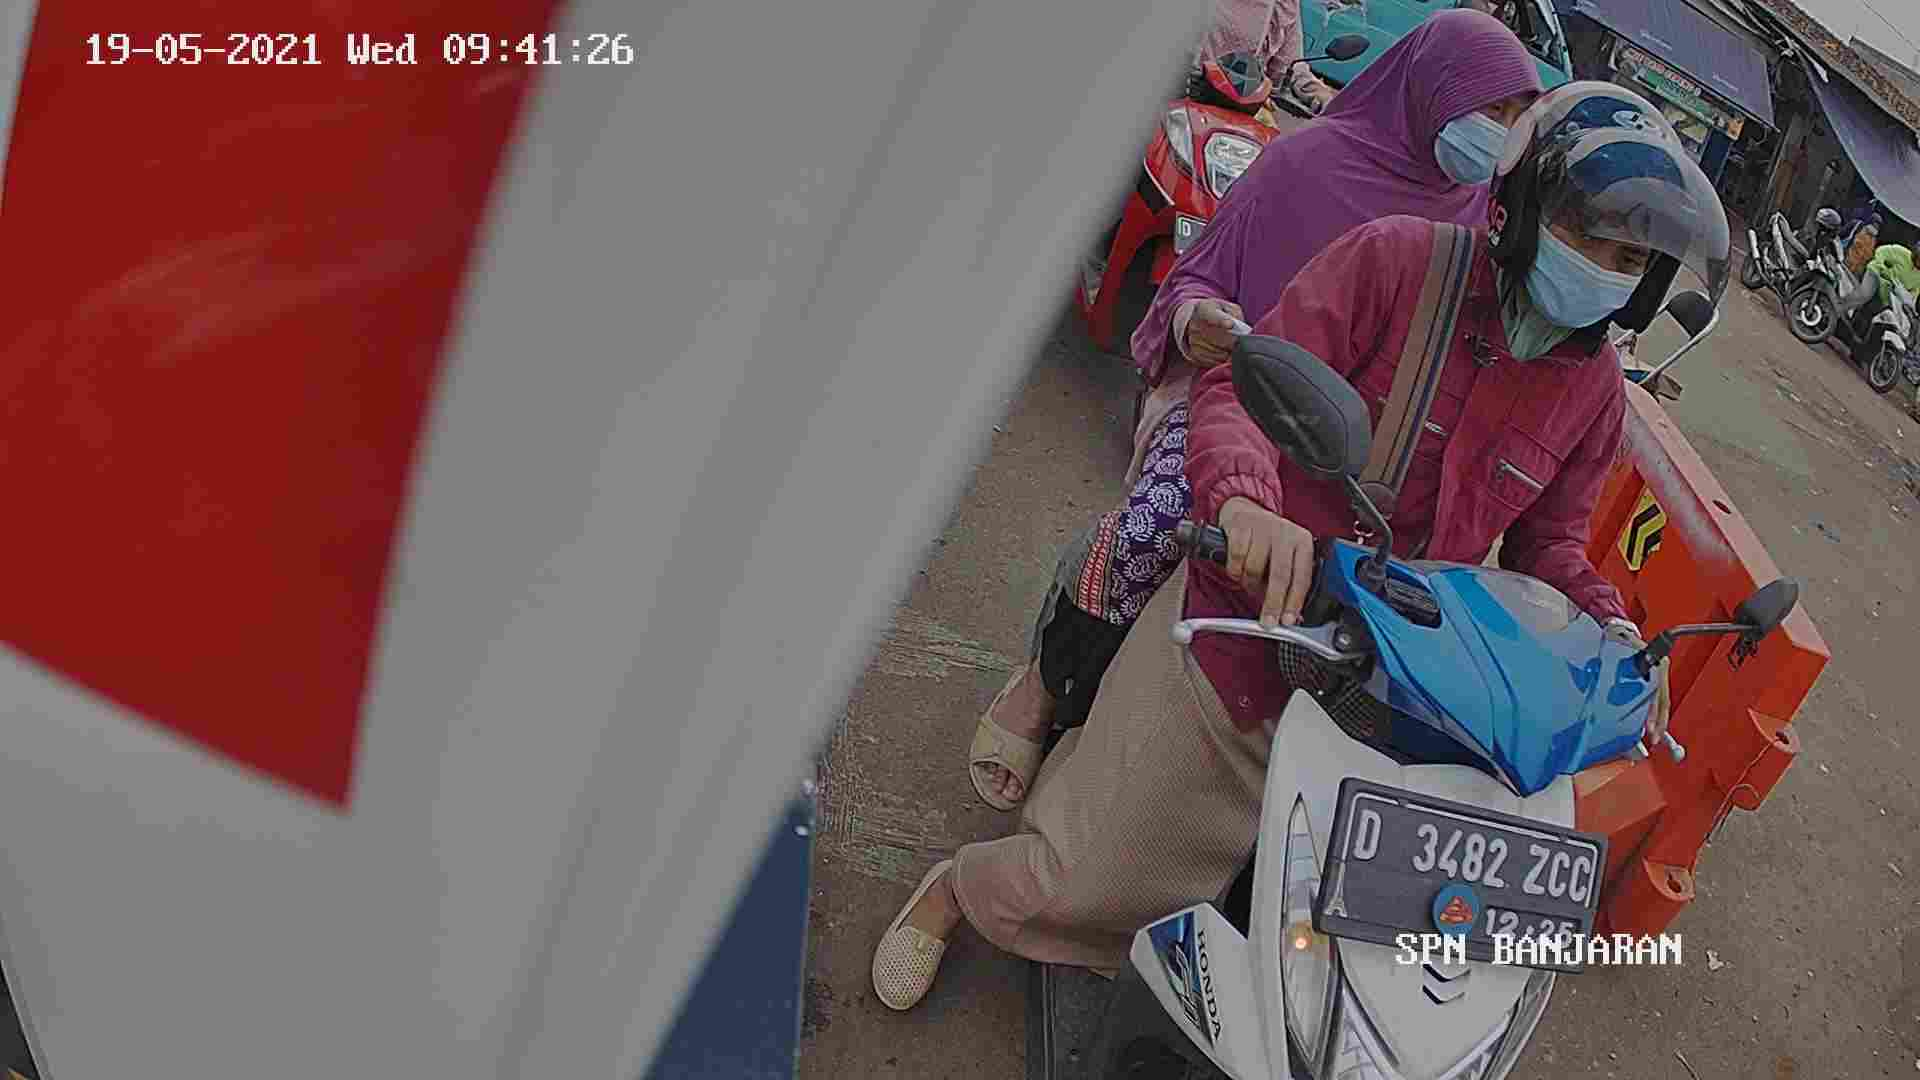motor: (1153, 495, 1667, 1080)
